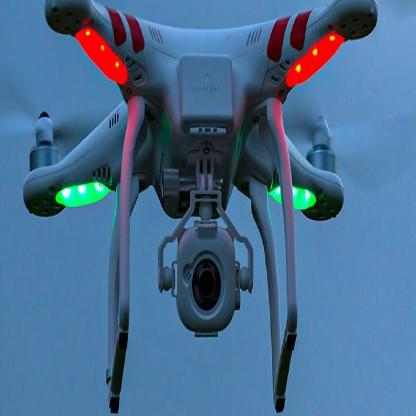drone: (13, 1, 416, 265)
